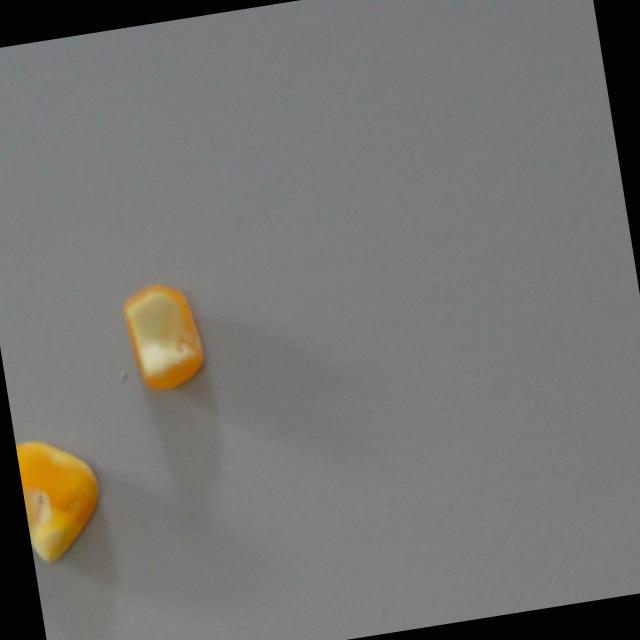no_canjicado: (118, 278, 207, 392)
punto_negro: (15, 431, 110, 565)
